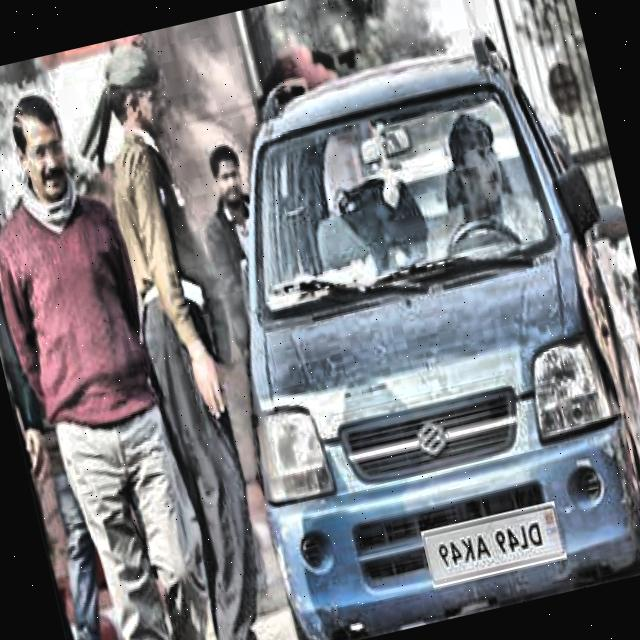license_plate: (421, 500, 567, 587)
